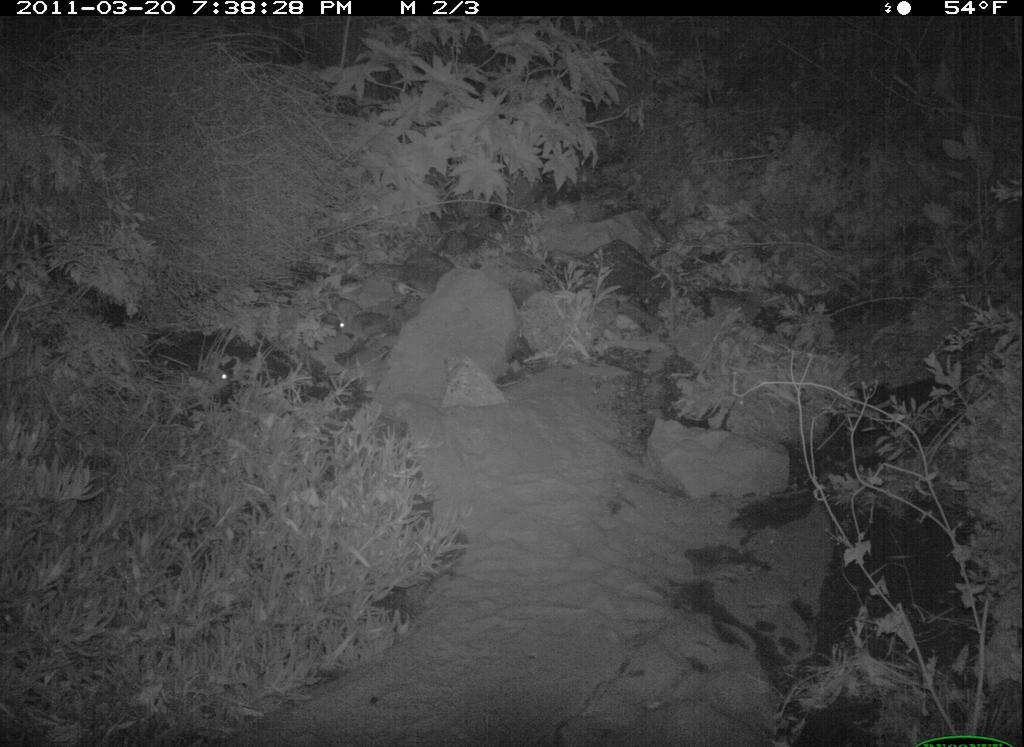rabbit: (161, 348, 244, 412), (323, 287, 406, 350)
